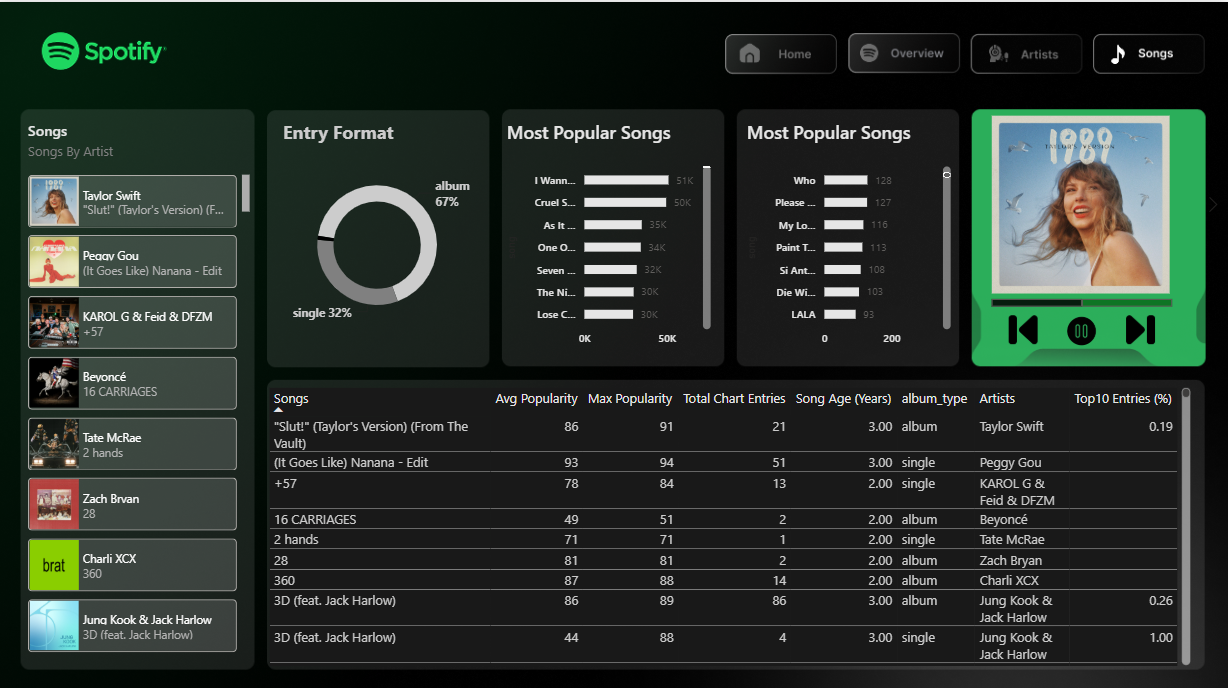

The page's visual inventory and layout, read from the dashboard file:
{"tool":"powerbi","page":{"name":"Songs","canvas":[1280,720],"ordinal":3},"visuals":[{"type":"actionButton","box":[760.1,32.6,109.8,39.8],"z":0},{"type":"actionButton","box":[884.3,32.6,112.2,39.8],"z":1000},{"type":"actionButton","box":[1011,32.6,114.6,39.8],"z":2000},{"type":"actionButton","box":[1137.6,32.9,108.4,39.8],"z":3000},{"type":"advancedSlicerVisual","title":"Songs","fields":{"Values":["Top-50-World.song"]},"box":[27.7,123.1,240.1,562.2],"z":4000},{"type":"hundredPercentStackedBarChart","fields":{"Y":["Avg(Top-50-World.popularity)","_Measure.Avg Popularity"]},"box":[1028.3,272.4,197.6,74.1],"z":5000},{"type":"image","box":[1017.3,323.2,98.8,34.3],"z":6000},{"type":"image","box":[1077.7,319.1,98,45],"z":7000},{"type":"image","box":[1139.5,323.2,98,34],"z":8000},{"type":"advancedSlicerVisual","title":"Songs","fields":{"Values":["Top-50-World.song"]},"box":[972.4,112.2,306.4,197.9],"z":9000},{"type":"shape","box":[1005,95.3,269,290.8],"z":10000},{"type":"clusteredBarChart","title":"Most Popular Songs","fields":{"Category":["Top-50-World.song"],"Y":["Sum(Top-50-World.popularity)"]},"box":[524.8,121.9,222,244.9],"z":11000},{"type":"clusteredBarChart","title":"Most Popular Songs","fields":{"Category":["Top-50-World.song"],"Y":["_Measure.Top10 Entries"]},"box":[774.5,121.9,222,244.9],"z":12000},{"type":"tableEx","fields":{"Values":["Top-50-World.song","_Measure.Avg Popularity","_Measure.Max Popularity","_Measure.Total Chart Entries","_Measure.Song Age (Years)","Top-50-World.album_type","Top-50-World.artist","_Measure.% Top10 Entries"]},"box":[276.1,396.3,968.1,298.2],"z":13000},{"type":"donutChart","title":"Entry Format","fields":{"Category":["Top-50-World.album_type"],"Y":["_Measure.Distinct Songs"]},"box":[291.7,122.4,205.8,234.4],"z":14000}]}

Visuals, with their boxes in screenshot pixels (x1, y1, x2, y2), scaled from the page's 1280x720 canvas onto the 1228x688 screenshot:
actionButton: box(729, 31, 835, 69)
actionButton: box(848, 31, 956, 69)
actionButton: box(970, 31, 1080, 69)
actionButton: box(1091, 31, 1195, 69)
"Songs" advancedSlicerVisual: box(27, 118, 257, 655)
hundredPercentStackedBarChart - Avg(Top-50-World.popularity) x _Measure.Avg Popularity: box(987, 260, 1176, 331)
image: box(976, 309, 1071, 342)
image: box(1034, 305, 1128, 348)
image: box(1093, 309, 1187, 341)
"Songs" advancedSlicerVisual: box(933, 107, 1227, 296)
shape: box(964, 91, 1222, 369)
"Most Popular Songs" clusteredBarChart: box(503, 116, 716, 350)
"Most Popular Songs" clusteredBarChart: box(743, 116, 956, 350)
tableEx - Top-50-World.song x _Measure.Avg Popularity: box(265, 379, 1194, 664)
"Entry Format" donutChart: box(280, 117, 477, 341)
